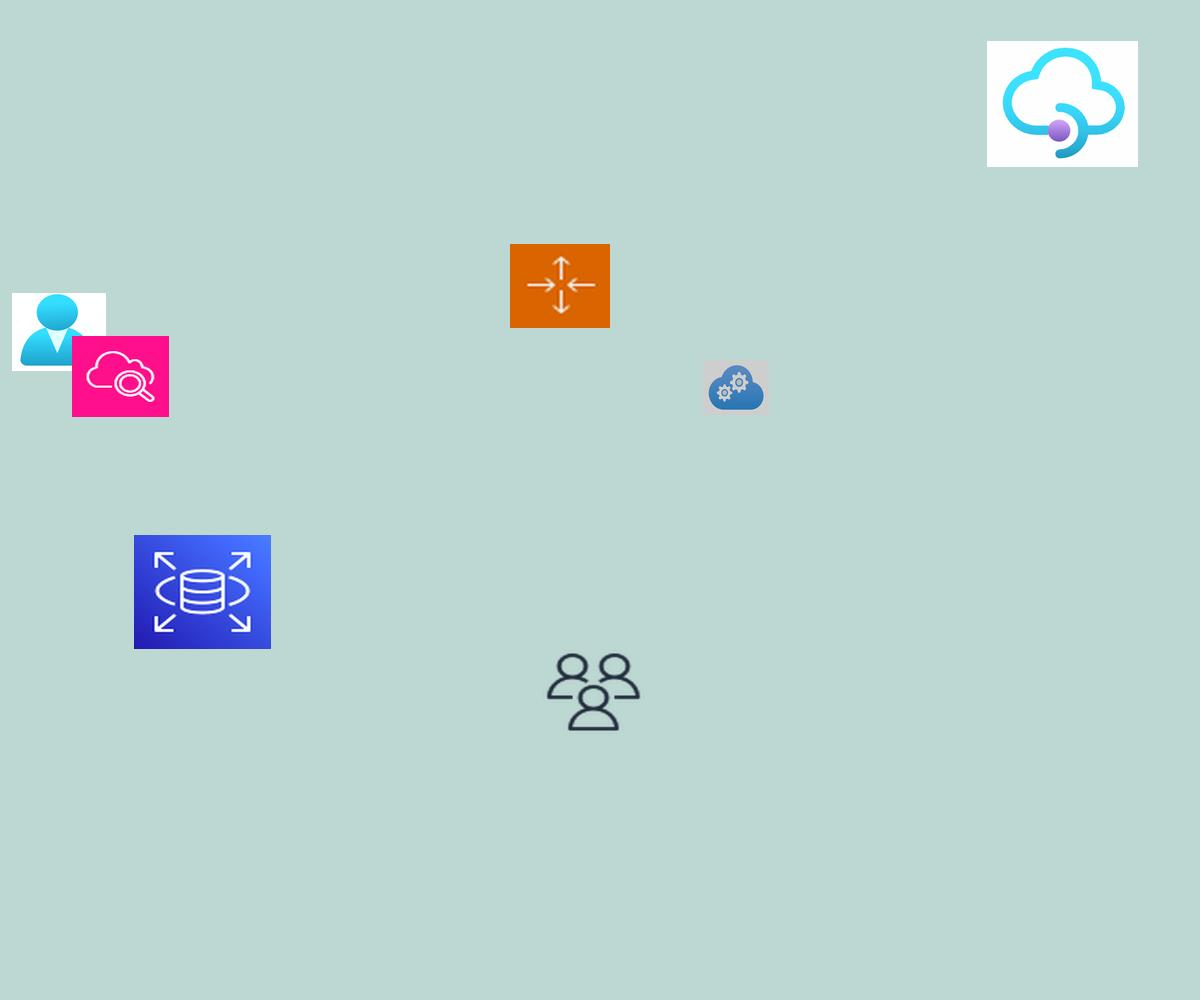AWS-CloudWatch: (72, 336, 169, 417)
AWS-RDS: (134, 535, 271, 649)
AWS-Res_Users: (543, 650, 644, 734)
AWS-Scaling-group: (510, 244, 610, 328)
Azure_api_gateway: (987, 41, 1138, 167)
Azure_cloud_services: (703, 360, 769, 415)
Azure_users: (12, 293, 106, 371)
